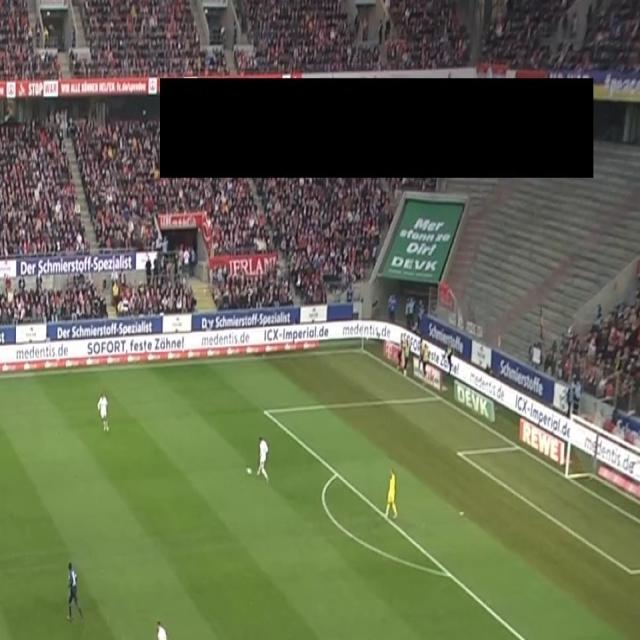ball: (245, 465, 252, 475)
